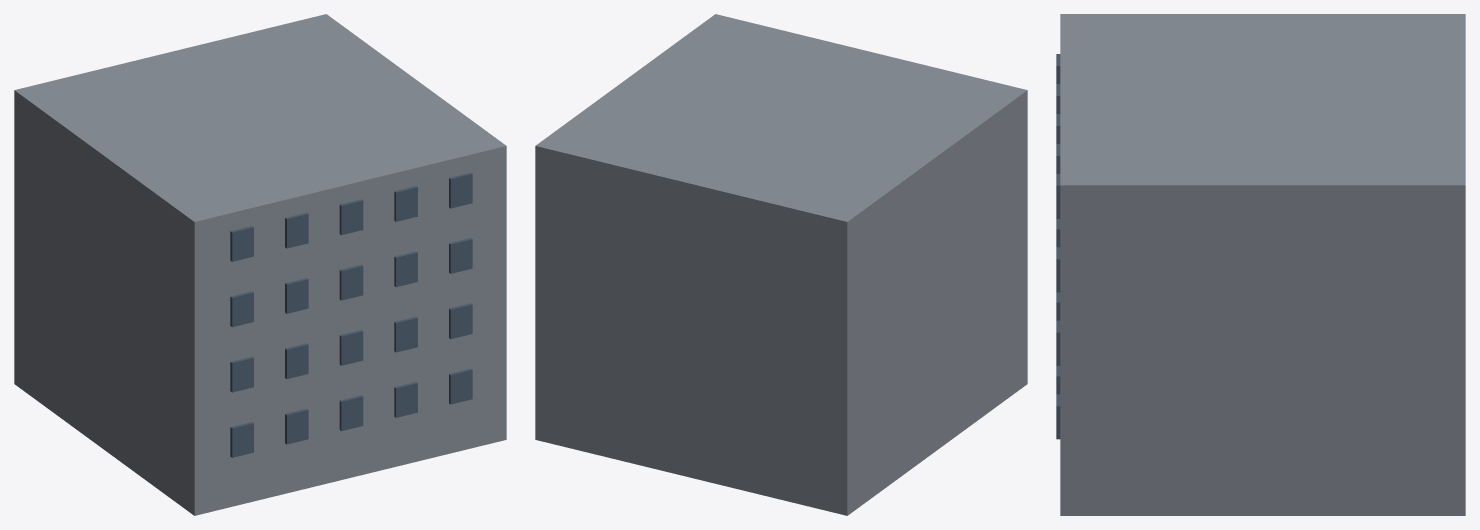
The model's file is building_a.glb.
The picture shows the model from 3 angles, left to right: view 1: azimuth 30°, elevation 25°; view 2: azimuth 150°, elevation 25°; view 3: azimuth 270°, elevation 25°; orthographic projection. The views are drawn at different scales.
Parts seen in each view (by area): view 1: p0, p10, p11, p12, p9, p4, p6, p1, p5, p16, p17, p18 (+9 smaller); view 2: p0; view 3: p0.
Boxes of the visible parts, x1=… form: p0: x1=14, y1=14, x2=506, y2=515; p10: x1=339, y1=330, x2=363, y2=365; p11: x1=339, y1=264, x2=363, y2=300; p12: x1=339, y1=199, x2=363, y2=235; p9: x1=339, y1=395, x2=363, y2=431; p4: x1=230, y1=226, x2=253, y2=261; p6: x1=285, y1=343, x2=308, y2=378; p1: x1=230, y1=422, x2=253, y2=457; p5: x1=285, y1=408, x2=308, y2=444; p16: x1=394, y1=186, x2=417, y2=221; p17: x1=449, y1=368, x2=472, y2=404; p18: x1=449, y1=303, x2=472, y2=338; p0: x1=535, y1=14, x2=1027, y2=515; p0: x1=1060, y1=14, x2=1465, y2=515.
Bounding box in the file's own units: 20 × 18 × 20.2.
